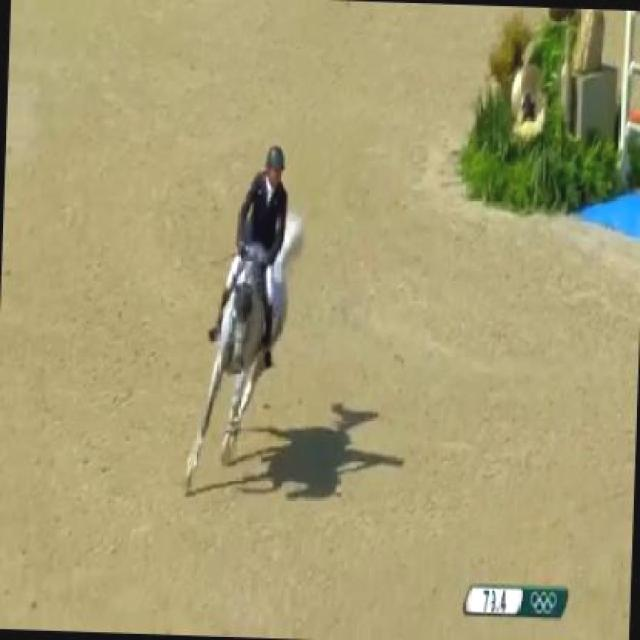non-fight: (184, 138, 304, 480)
